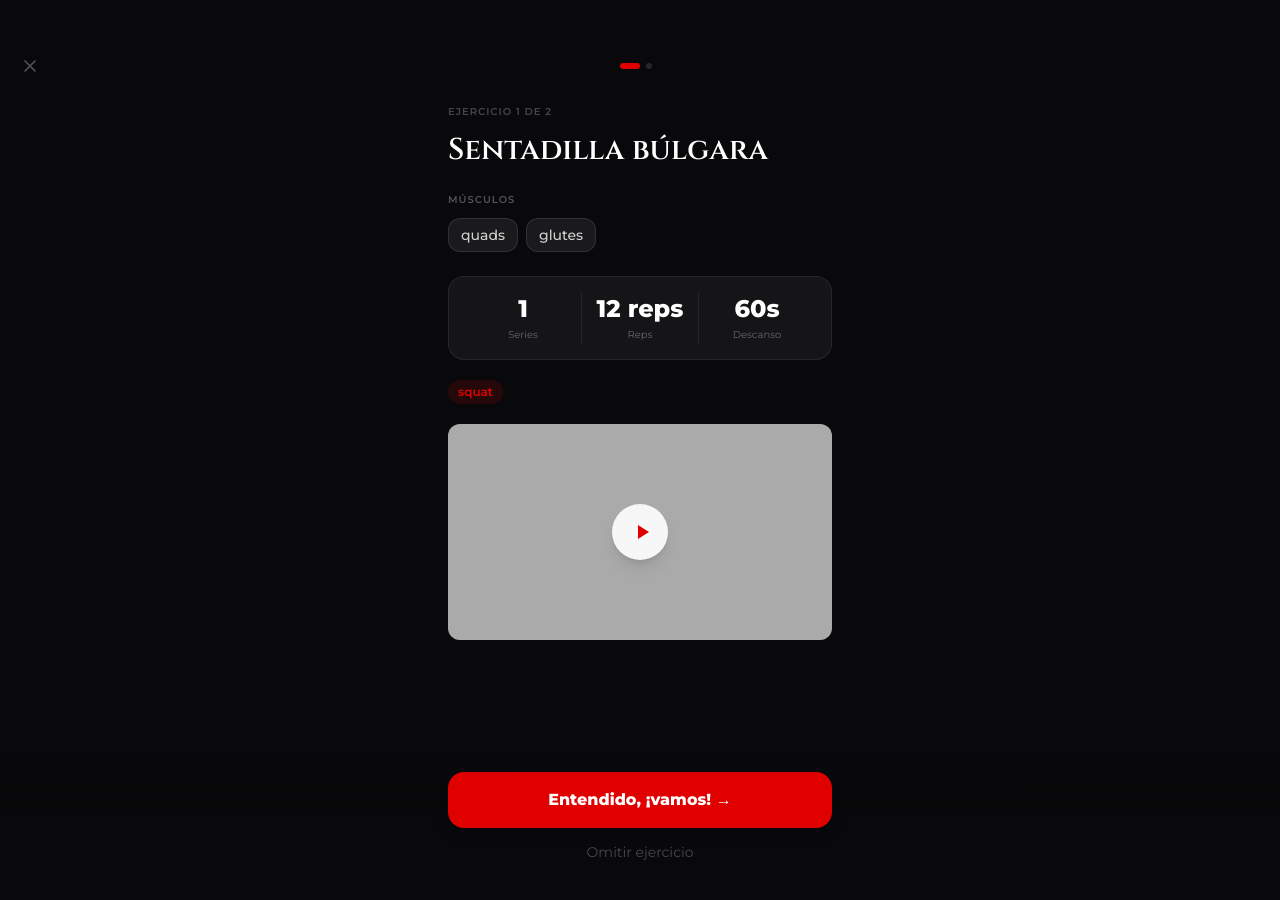
it: WorkoutPresentation › advances to the next exercise when the current one is skipped
Click the button "Omitir ejercicio" at (640, 852), box [448,836,832,868]
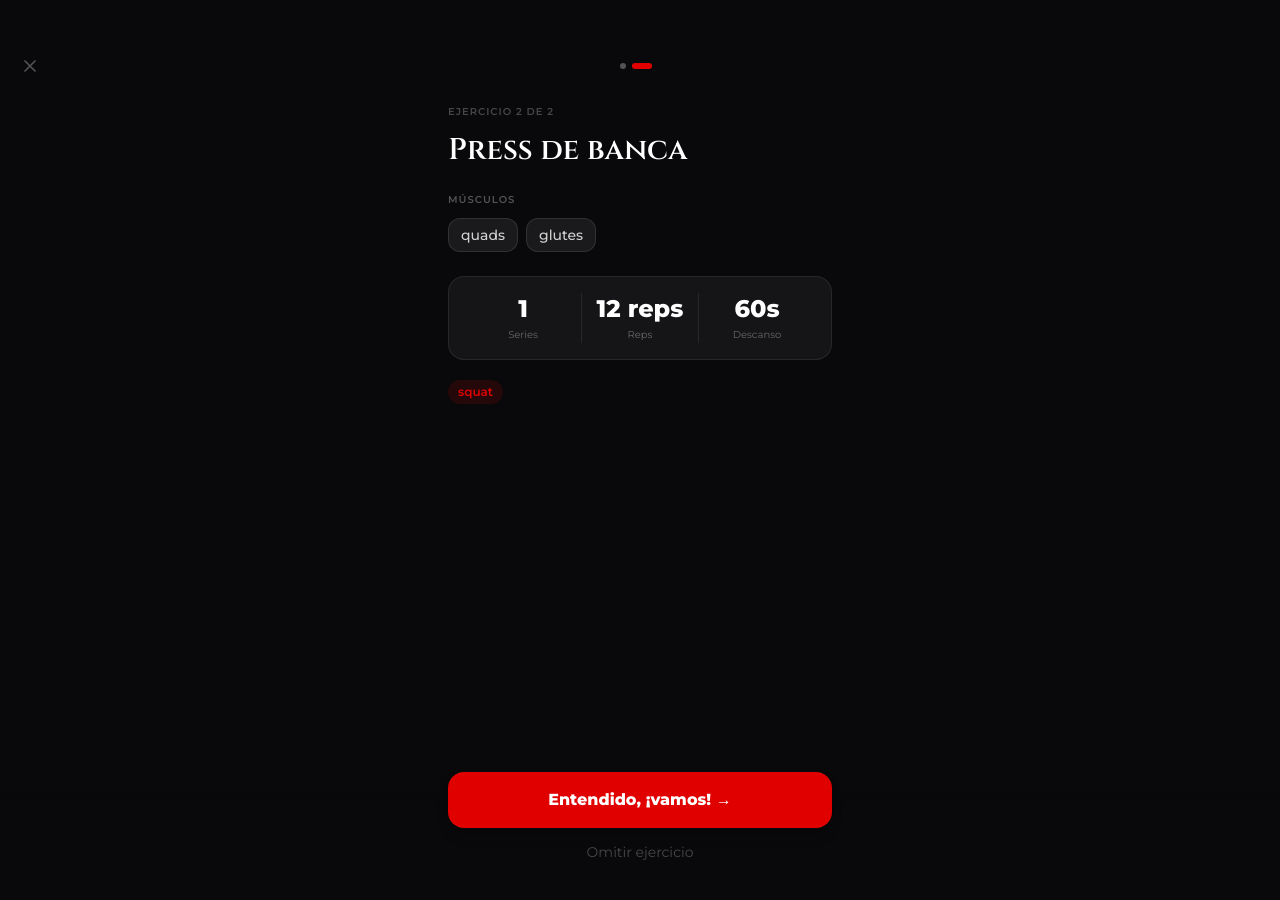
Expected: the heading "Press de banca" is shown, [448,130,688,170]
